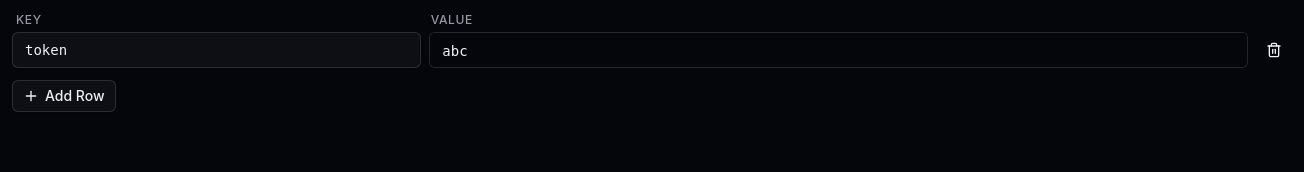
Test: SecretDataGrid › Add Row button appends a new empty row
This screenshot has width=1304, height=172.
Expected: the number of fields with placeholder "key" is 1, x1=12 y1=32 x2=421 y2=68
Click the button "Add Row".
click(64, 96)  # box x1=12 y1=80 x2=116 y2=112
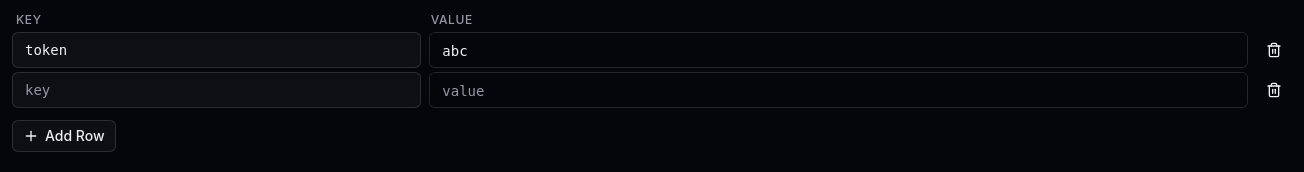
Expected: the number of fields with placeholder "key" is 2, x1=12 y1=32 x2=421 y2=68; x1=12 y1=72 x2=421 y2=108
